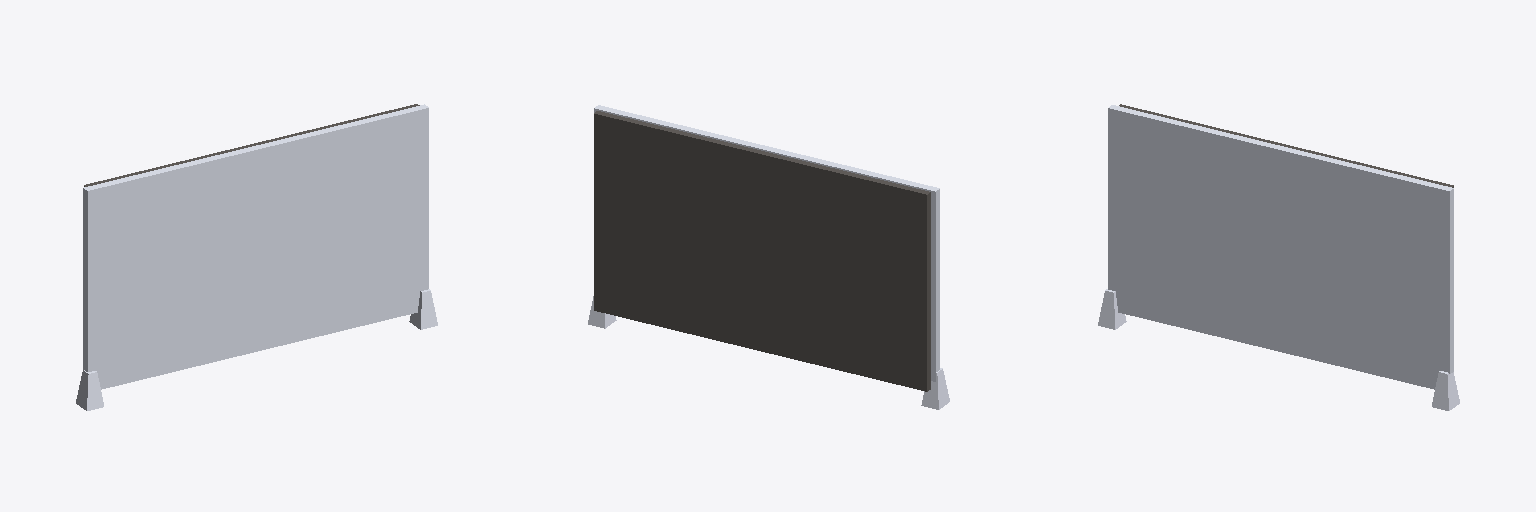
Rendered from TVBig.obj.
The picture shows the model from 3 angles: view 1: azimuth 30°, elevation 25°; view 2: azimuth 150°, elevation 25°; view 3: azimuth 330°, elevation 25°; orthographic projection.
Visible parts, largest first — view 1: mergedBlocks; view 2: mergedBlocks; view 3: mergedBlocks.
Part boxes in pixels (x1,y1,x2,y2): mergedBlocks: (76, 104, 437, 410); mergedBlocks: (588, 105, 949, 409); mergedBlocks: (1098, 104, 1459, 410).
Size of the model in its own units: 2.15 by 1.26 by 0.14.